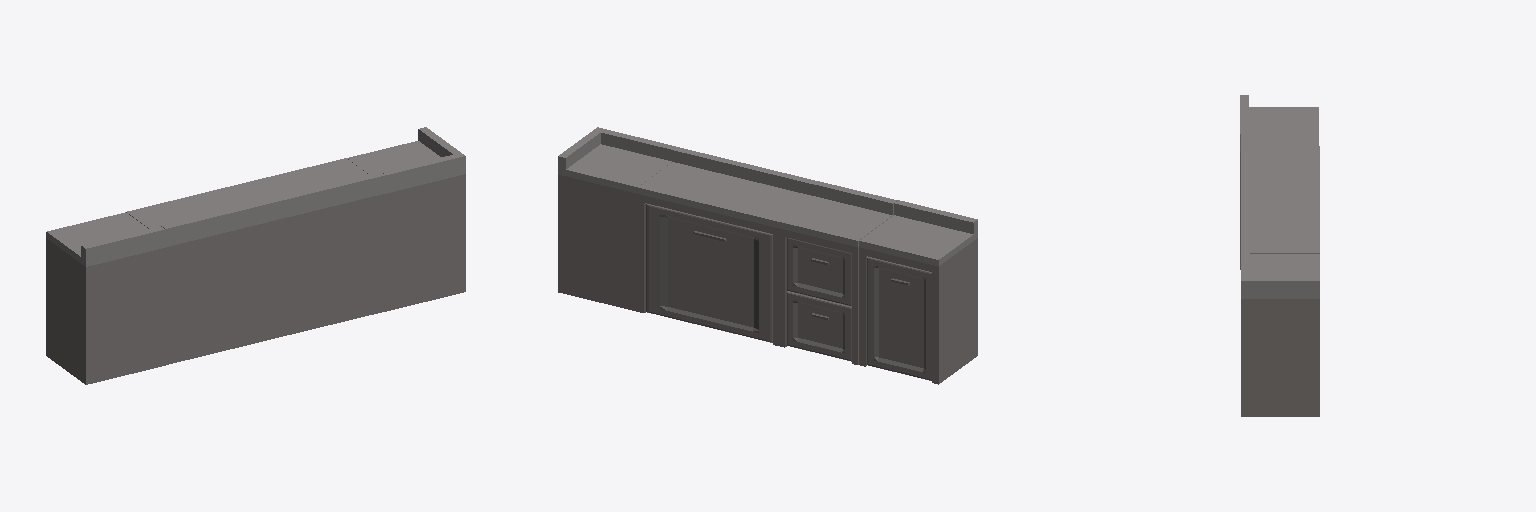
3 views of the same model, side by side, from view 1: azimuth 30°, elevation 25°; view 2: azimuth 150°, elevation 25°; view 3: azimuth 270°, elevation 25° (orthographic).
Visible parts, largest first — view 1: Mesa_3.001, Mesa_2.002, Esquinero.001, Mesa_1.003; view 2: Mesa_3.001, Mesa_2.002, Esquinero.001, Mesa_1.003; view 3: Esquinero.001, Mesa_3.001, Mesa_2.002, Mesa_1.003.
Part boxes in pixels (left/top/right/bottom): Mesa_3.001: left=206, top=158, right=385, bottom=345; Mesa_2.002: left=46, top=212, right=165, bottom=384; Esquinero.001: left=347, top=127, right=465, bottom=311; Mesa_1.003: left=126, top=192, right=244, bottom=364; Mesa_3.001: left=638, top=147, right=816, bottom=345; Mesa_2.002: left=859, top=200, right=977, bottom=384; Esquinero.001: left=558, top=127, right=675, bottom=311; Mesa_1.003: left=779, top=181, right=897, bottom=364; Esquinero.001: left=1241, top=242, right=1319, bottom=416; Mesa_3.001: left=1241, top=173, right=1319, bottom=253; Mesa_2.002: left=1240, top=95, right=1318, bottom=269; Mesa_1.003: left=1241, top=134, right=1319, bottom=184.
Bounding box in the file's own units: 14.35 × 4.92 × 2.63.
Materials: 4 (4 with a texture image).